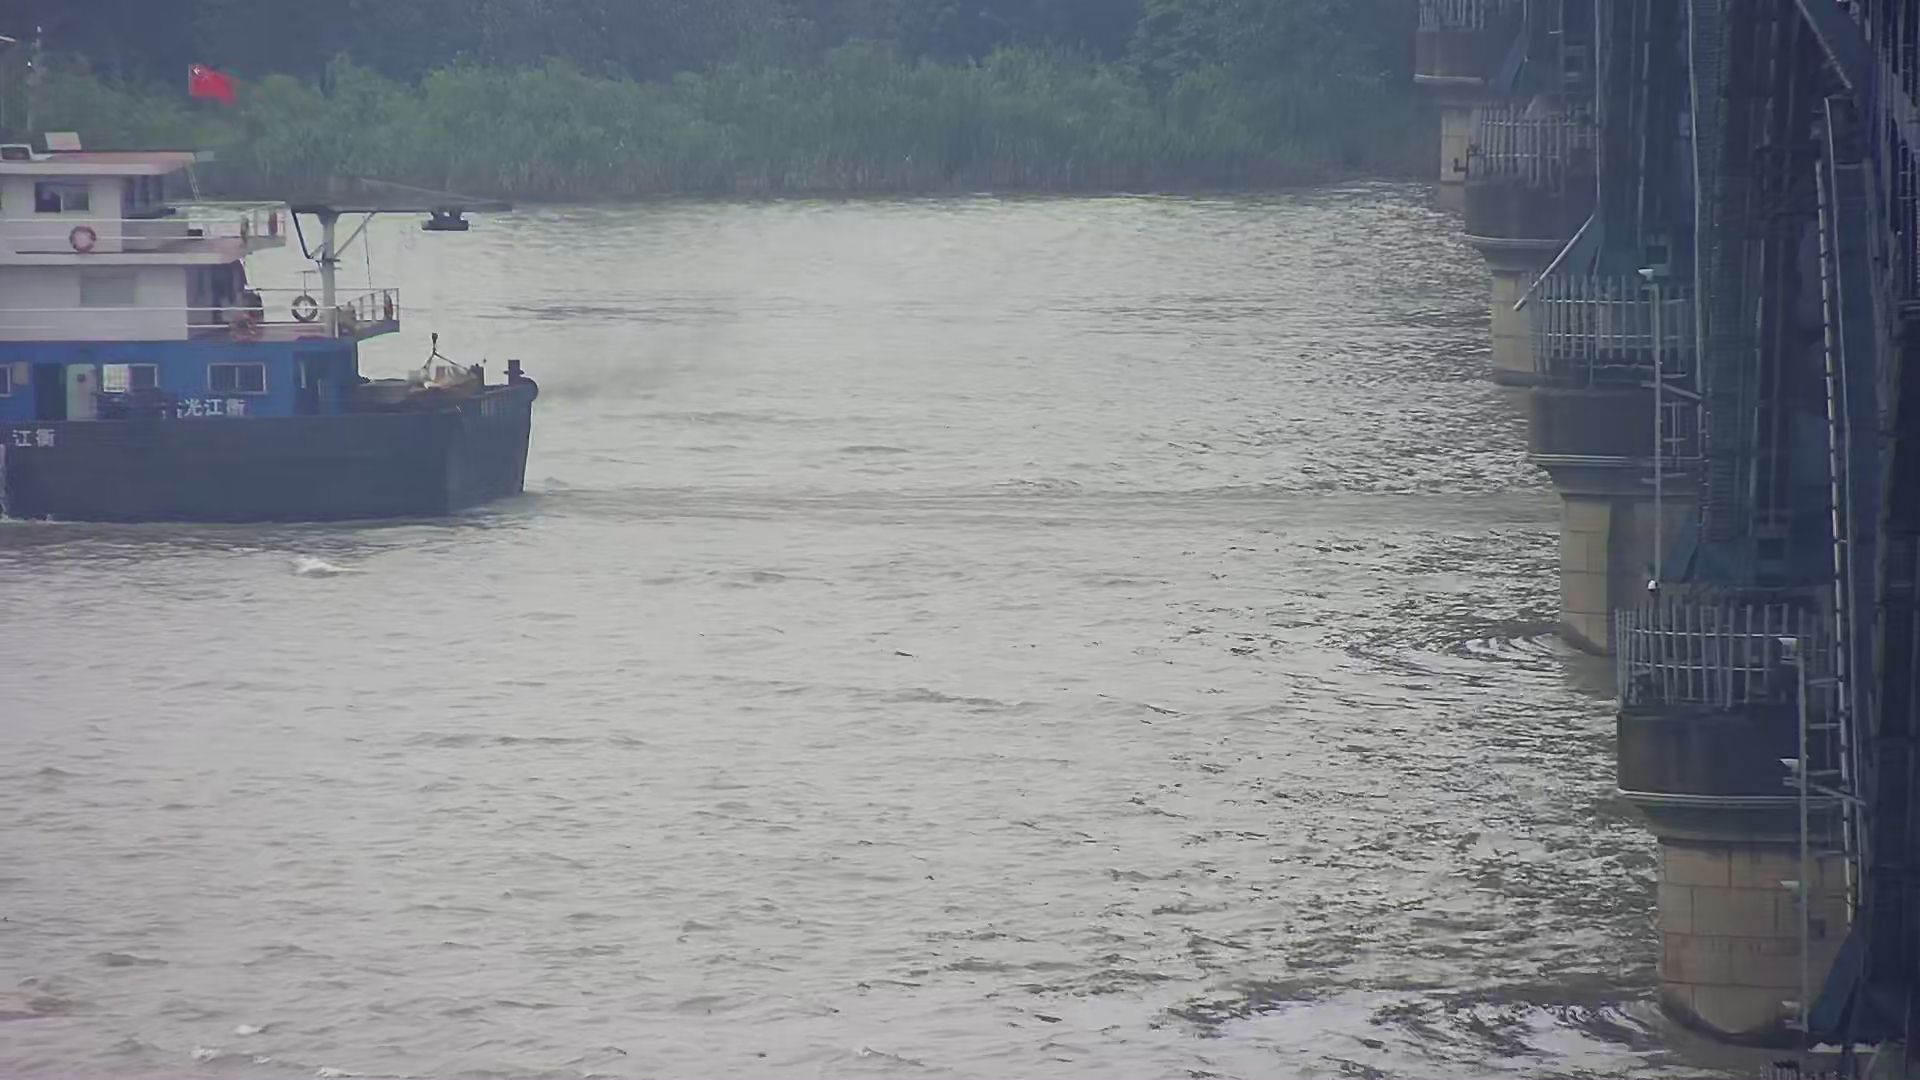bridge: (1396, 8, 1913, 1080)
ship: (1, 84, 545, 535)
